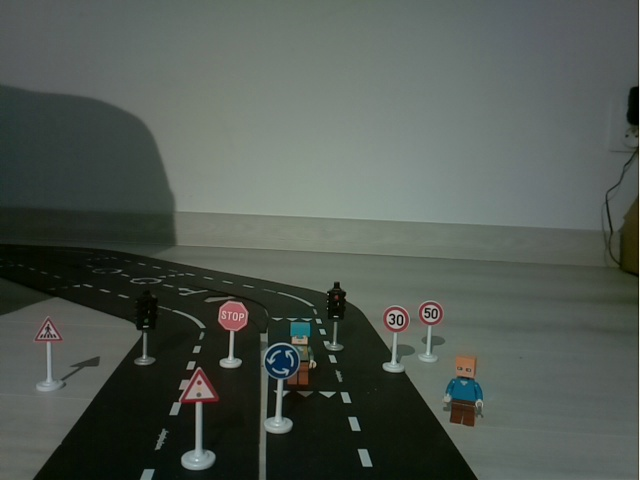green light: (132, 291, 163, 371)
limit 30: (380, 303, 411, 374)
limit 50: (416, 300, 443, 365)
pedestrian sign: (31, 315, 70, 395)
person: (446, 354, 487, 431), (291, 319, 319, 390)
red light: (325, 282, 349, 353)
round: (262, 343, 296, 433)
stop: (216, 299, 250, 369)
traffic light sign: (176, 366, 223, 477)
